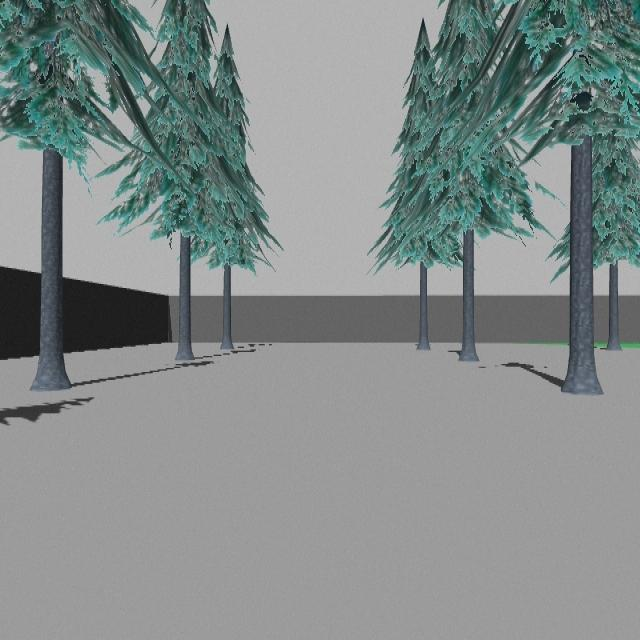tree: (439, 0, 640, 396), (101, 0, 284, 363)
